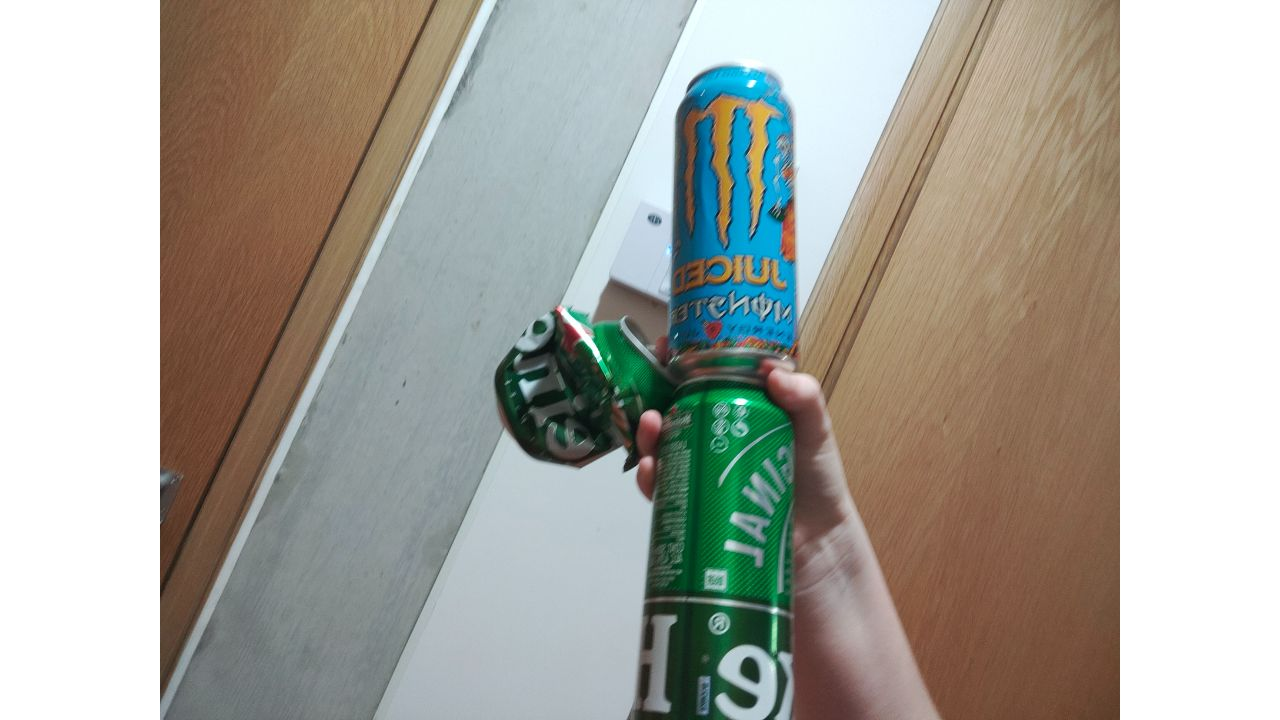Can: (627, 378, 807, 720), (668, 66, 800, 371), (492, 305, 669, 473)
